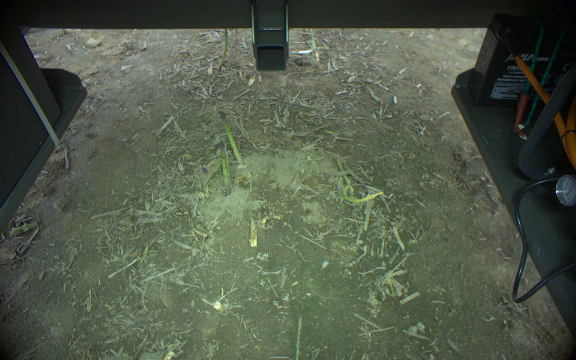aspa: (219, 108, 242, 164), (342, 182, 384, 203), (218, 138, 233, 195), (334, 157, 351, 192), (344, 160, 366, 187), (218, 29, 230, 72), (294, 314, 304, 360), (306, 28, 319, 63)
